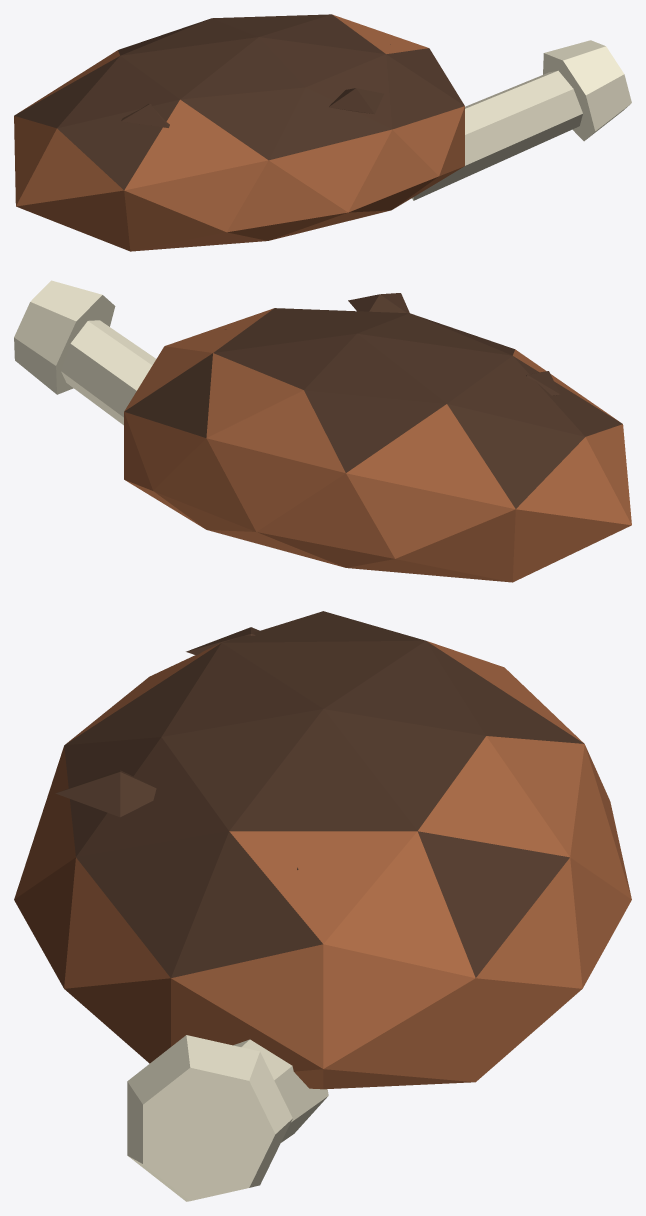
The model's file is cooked_meat.glb.
3 views of the same model, one above another, from view 1: azimuth 30°, elevation 25°; view 2: azimuth 150°, elevation 25°; view 3: azimuth 270°, elevation 25° (orthographic). The views are drawn at different scales.
Visible parts, largest first — view 1: cooked_meat.001; view 2: cooked_meat.001; view 3: cooked_meat.001.
Part boxes in pixels (x1,y1,x2,y2): cooked_meat.001: (14,14,631,251); cooked_meat.001: (14,280,631,582); cooked_meat.001: (14,611,631,1201).
Bounding box in the file's own units: 0.26 × 0.0781 × 0.1413.
